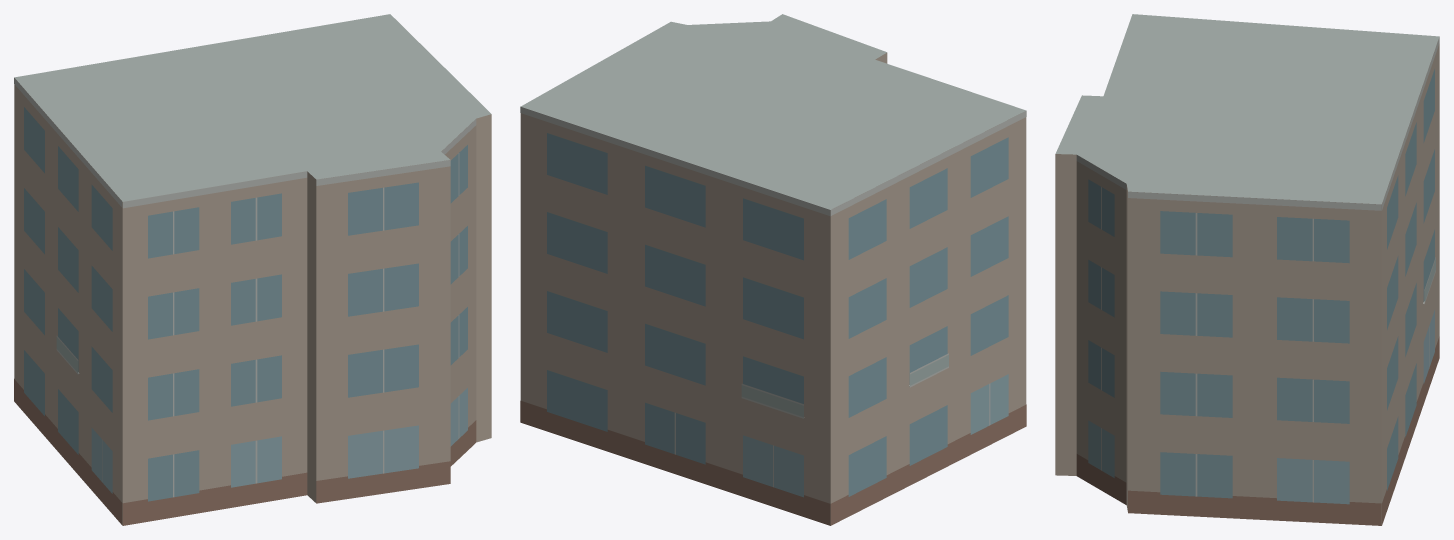
Rendered from survey-upis-32806179.glb.
3 views of the same model, side by side, from view 1: azimuth 30°, elevation 25°; view 2: azimuth 150°, elevation 25°; view 3: azimuth 270°, elevation 25° (orthographic). The views are drawn at different scales.
Visible parts, largest first — view 1: survey-upis-32806179.tmp; view 2: survey-upis-32806179.tmp; view 3: survey-upis-32806179.tmp.
Boxes of the visible parts, bbox=[...] form: survey-upis-32806179.tmp: bbox=[14, 14, 491, 525]; survey-upis-32806179.tmp: bbox=[520, 14, 1026, 525]; survey-upis-32806179.tmp: bbox=[1055, 14, 1439, 525].
Bounding box in the file's own units: 15.51 × 12.2 × 13.22.
